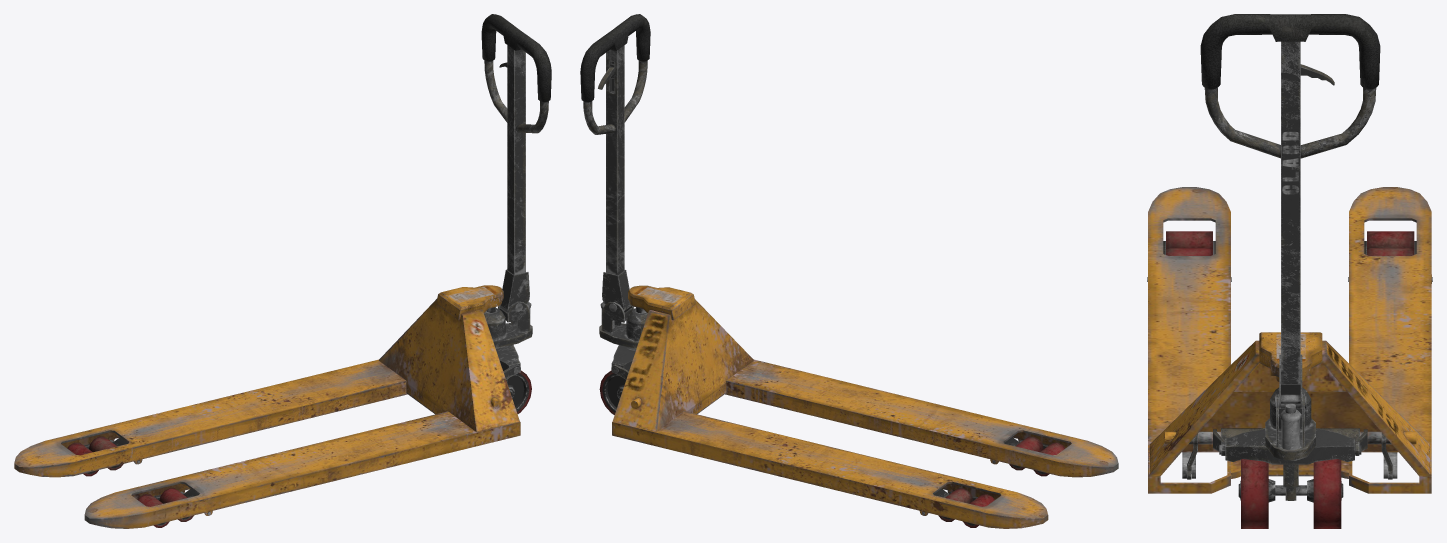
File: pallet.obj
The picture shows the model from 3 angles, left to right: view 1: azimuth 30°, elevation 25°; view 2: azimuth 150°, elevation 25°; view 3: azimuth 270°, elevation 25°; orthographic projection. The views are drawn at different scales.
Parts seen in each view (by area): view 1: defaultMaterial; view 2: defaultMaterial; view 3: defaultMaterial.
Boxes of the visible parts, x1,y1,x2,y2 form: defaultMaterial: (14,14,551,528); defaultMaterial: (580,14,1118,528); defaultMaterial: (1147,14,1432,528).
Bounding box in the file's own units: 15.11 × 11.14 × 5.46.
1 material, 1 textured.
